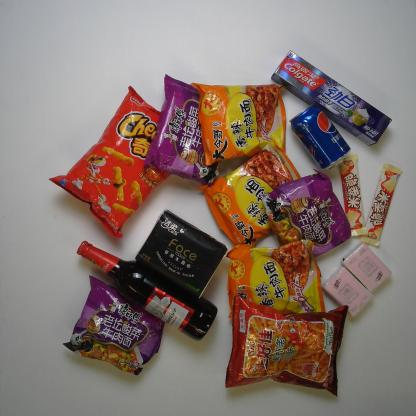Alcohol: (74, 240, 218, 341)
Chocolate: (364, 164, 401, 247), (337, 152, 367, 238)
Drink: (286, 105, 352, 171)
Instant Noodles: (198, 138, 309, 249), (61, 272, 164, 376), (141, 71, 223, 188), (187, 76, 290, 167), (223, 239, 326, 322), (260, 168, 351, 260)
Personal Hygiene: (274, 48, 393, 148)
Puffed Food: (48, 84, 171, 239), (224, 296, 347, 399)
Tissue: (133, 207, 231, 302), (340, 240, 393, 292), (322, 271, 374, 316)
